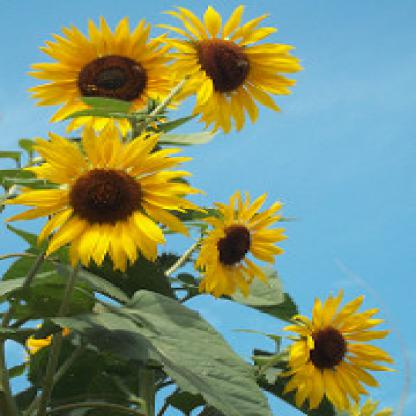SUN FLOWER: (8, 6, 378, 405)
